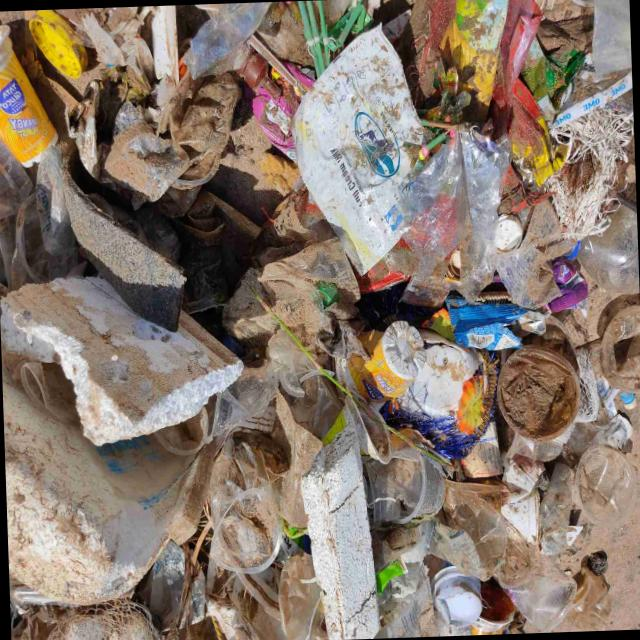bao_bi_thuc_pham: (448, 297, 527, 350)
giay: (292, 24, 423, 273)
hop_nhua: (441, 0, 509, 122), (0, 24, 57, 167)
nhua: (400, 130, 510, 300), (209, 331, 321, 437), (209, 433, 283, 574), (363, 436, 446, 524), (504, 546, 577, 632), (579, 195, 639, 293), (576, 444, 637, 528), (363, 320, 426, 400), (278, 553, 328, 640), (574, 0, 631, 76), (432, 566, 483, 628)
xop: (1, 364, 193, 605), (0, 277, 243, 445), (301, 422, 380, 640)
